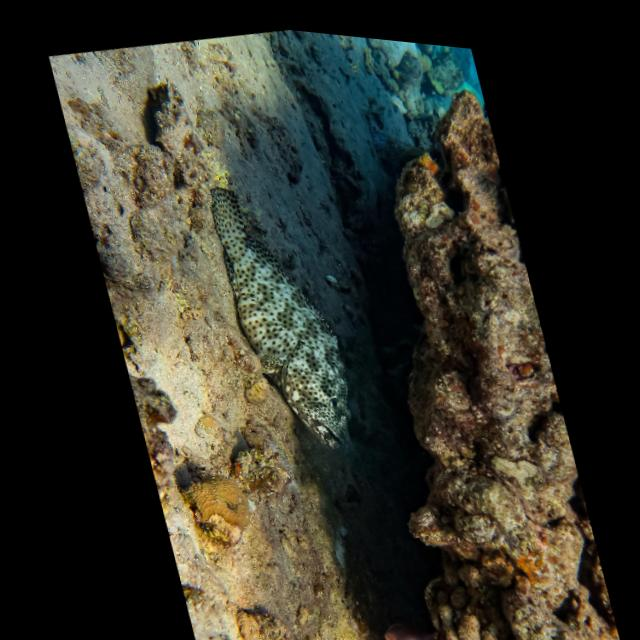Groupers: (200, 167, 367, 468)
